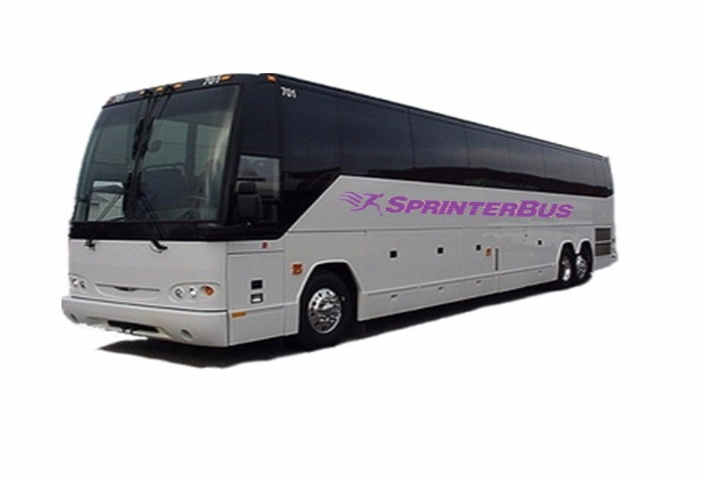bus: (62, 65, 648, 355)
